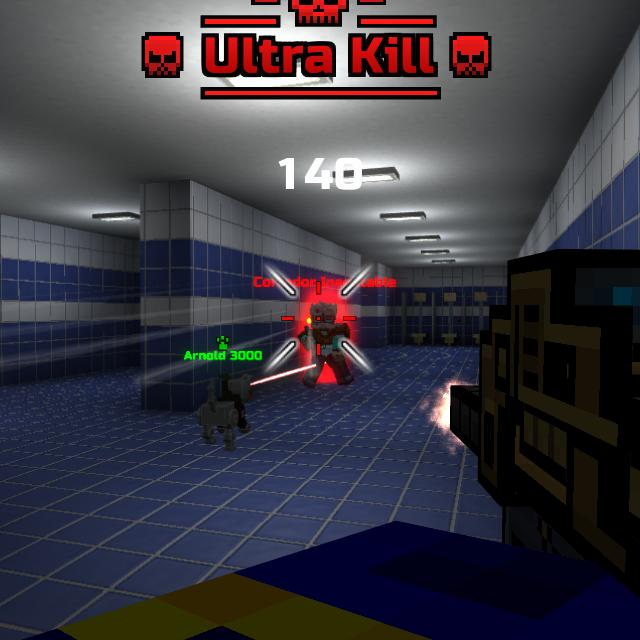Enemy: (299, 302, 354, 387)
